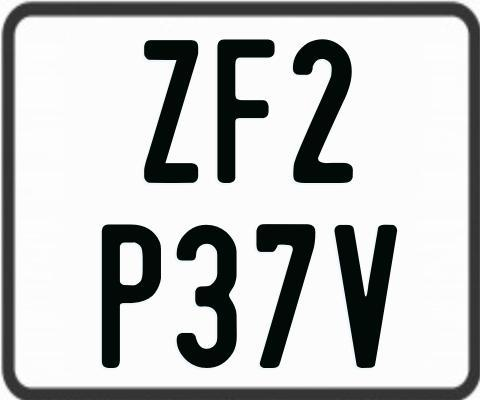2: (290, 36, 355, 186)
3: (175, 222, 238, 370)
7: (253, 221, 315, 369)
F: (217, 38, 281, 182)
P: (100, 222, 159, 366)
V: (333, 223, 399, 369)
Z: (143, 40, 199, 187)
